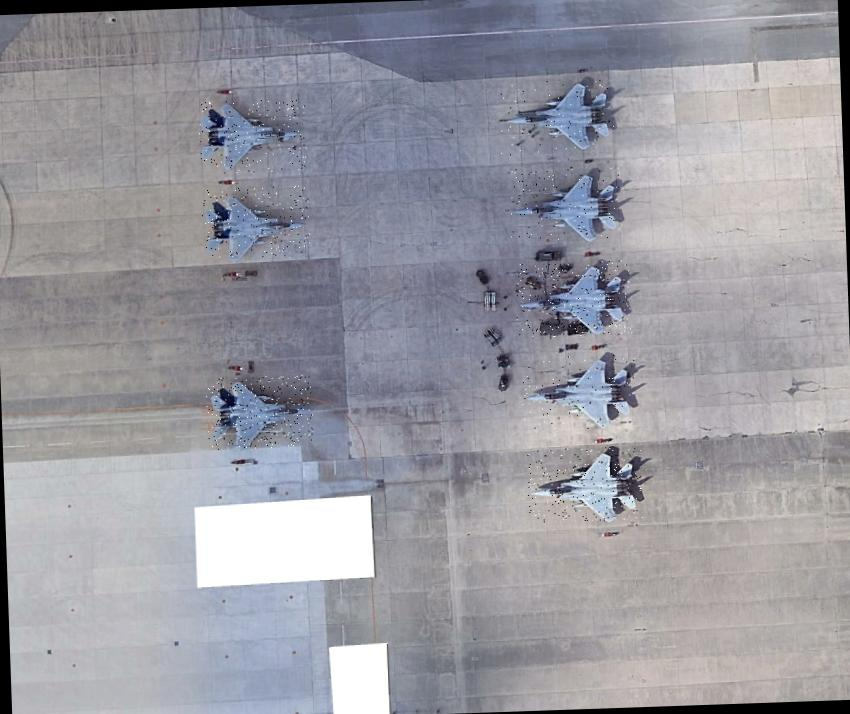A13: (521, 352, 639, 431), (497, 78, 615, 156), (506, 164, 624, 242), (514, 260, 632, 338), (526, 446, 644, 524), (198, 98, 307, 174), (201, 185, 310, 261), (206, 374, 315, 450)
